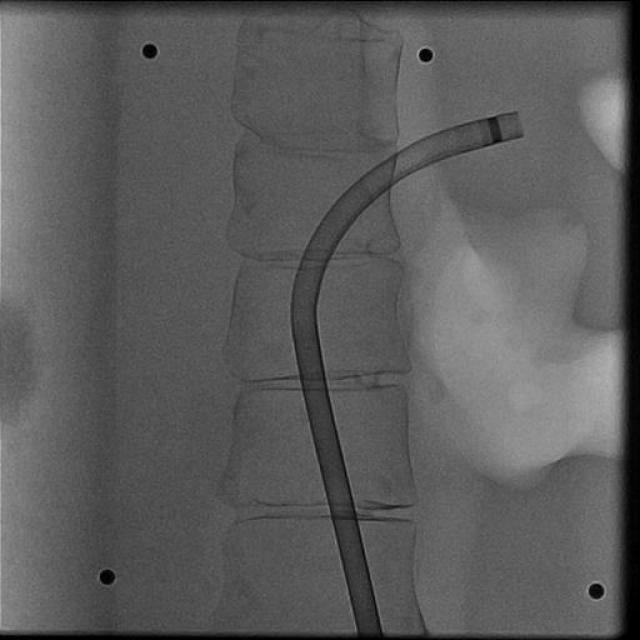bend: (290, 314, 317, 333)
entry: (356, 625, 383, 633)
marker: (485, 115, 504, 145)
tip: (516, 112, 524, 136)
